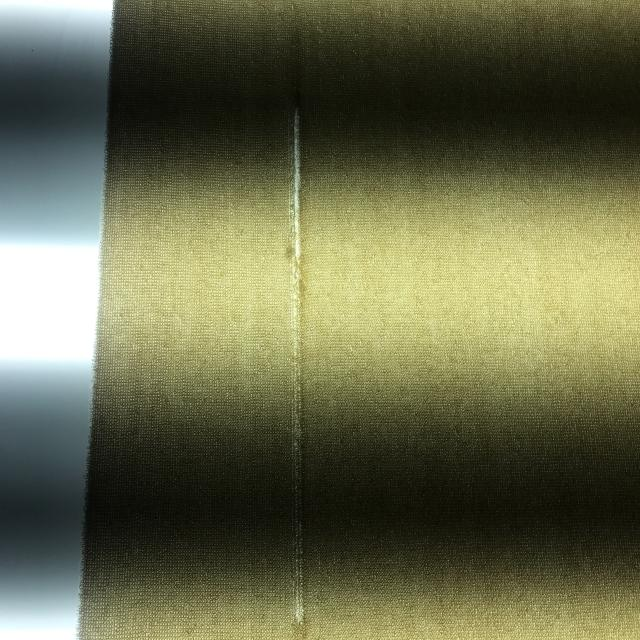Warp_Weft: (286, 106, 314, 628)
